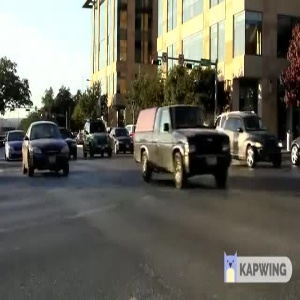car: (222, 107, 288, 170), (19, 117, 71, 179)
suv: (81, 115, 110, 161)
truck: (132, 98, 230, 193)
